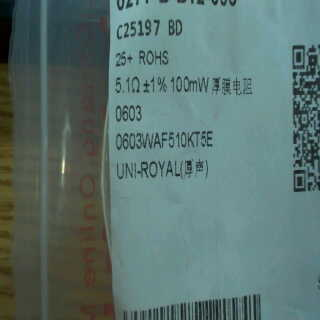5.1R: (112, 75, 143, 97)
